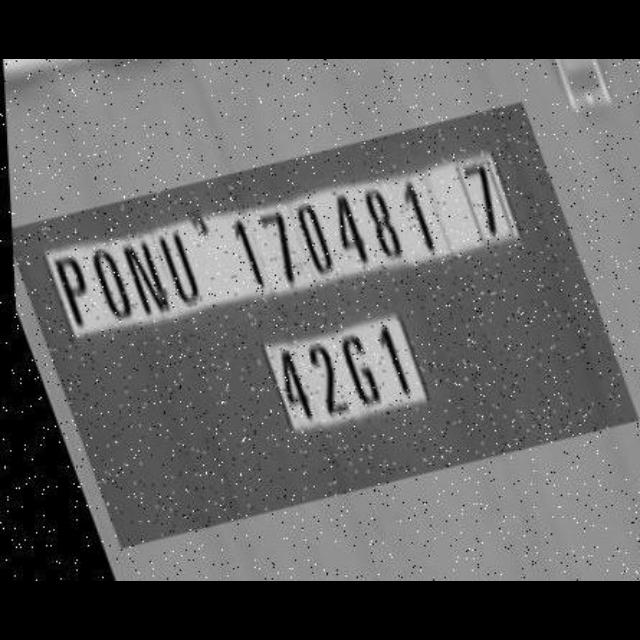0: (295, 201, 337, 283)
1: (376, 324, 422, 404), (402, 179, 444, 263), (232, 218, 272, 296)
2: (310, 341, 350, 419)
4: (267, 342, 315, 428), (332, 192, 372, 270)
7: (462, 160, 504, 244), (258, 212, 298, 286)
8: (366, 184, 404, 266)
g: (343, 333, 383, 411)
n: (124, 239, 174, 319)
o: (90, 243, 134, 325)
p: (46, 250, 92, 334)
u: (160, 229, 210, 303)
